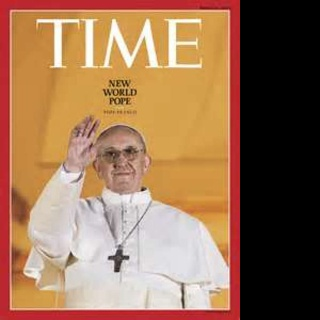without_mask: (99, 126, 145, 195)
